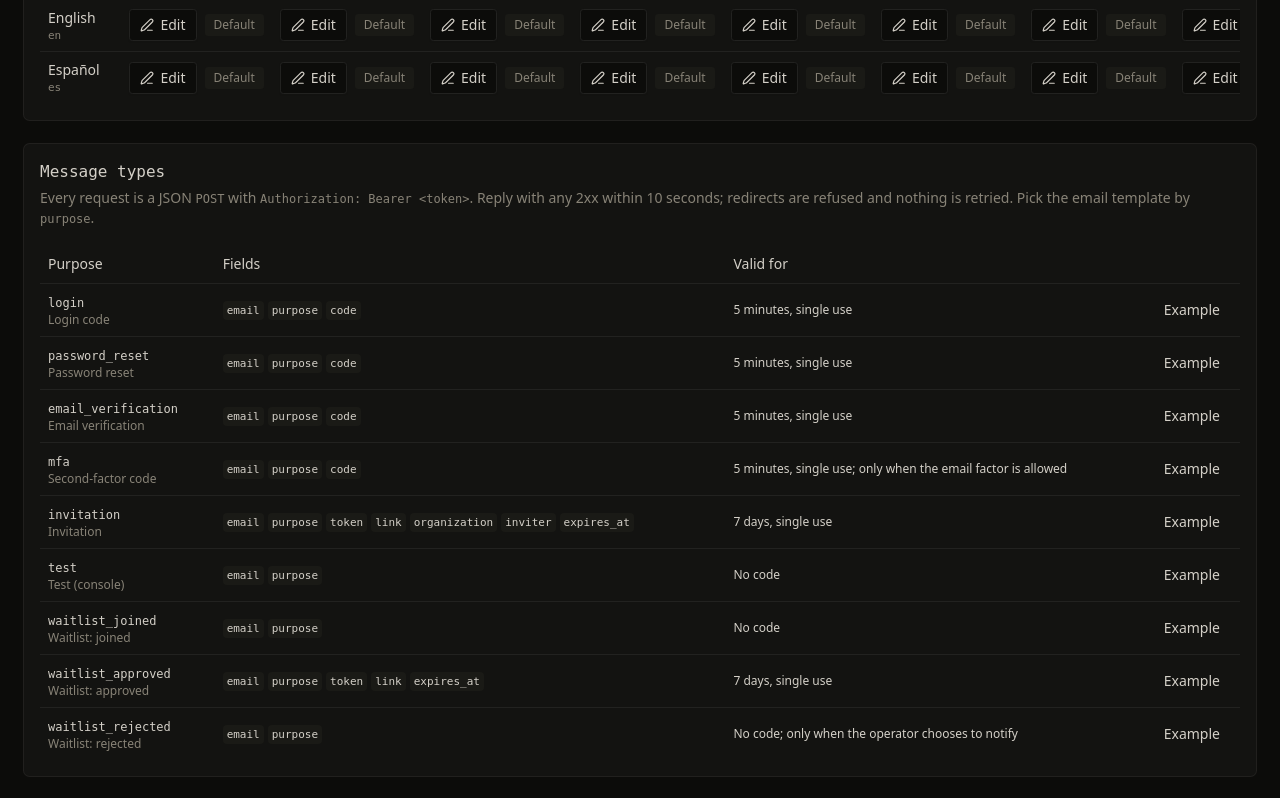
Test: shows the global fallback, every message type and a correct description
(page scrolled)
Expected: the text "mfa" is shown, [48,455,70,469]
Click the button "Example" in the row of "inviter". click: (1192, 522)
box: [1152,506,1232,538]
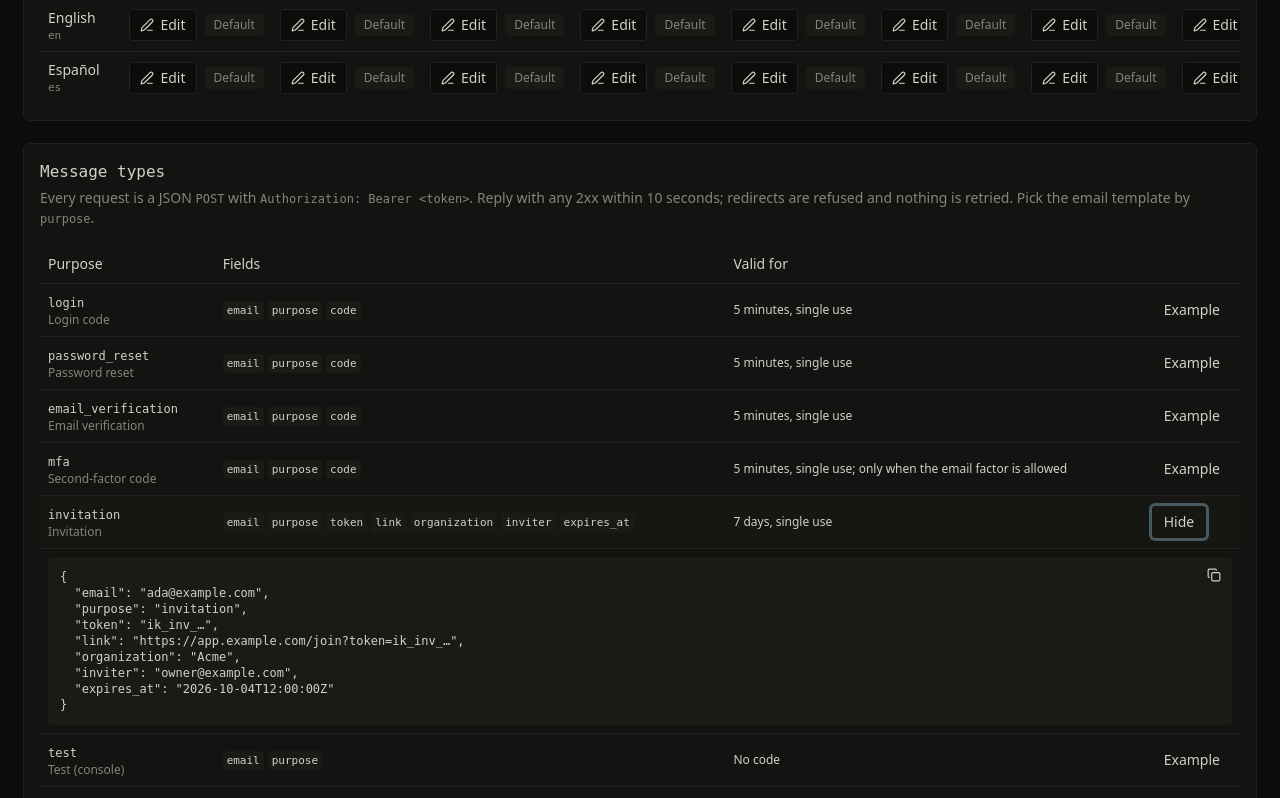
Result: the text named "invitation example payload" shows "\"expires_at\"" at [60,570,465,712]
